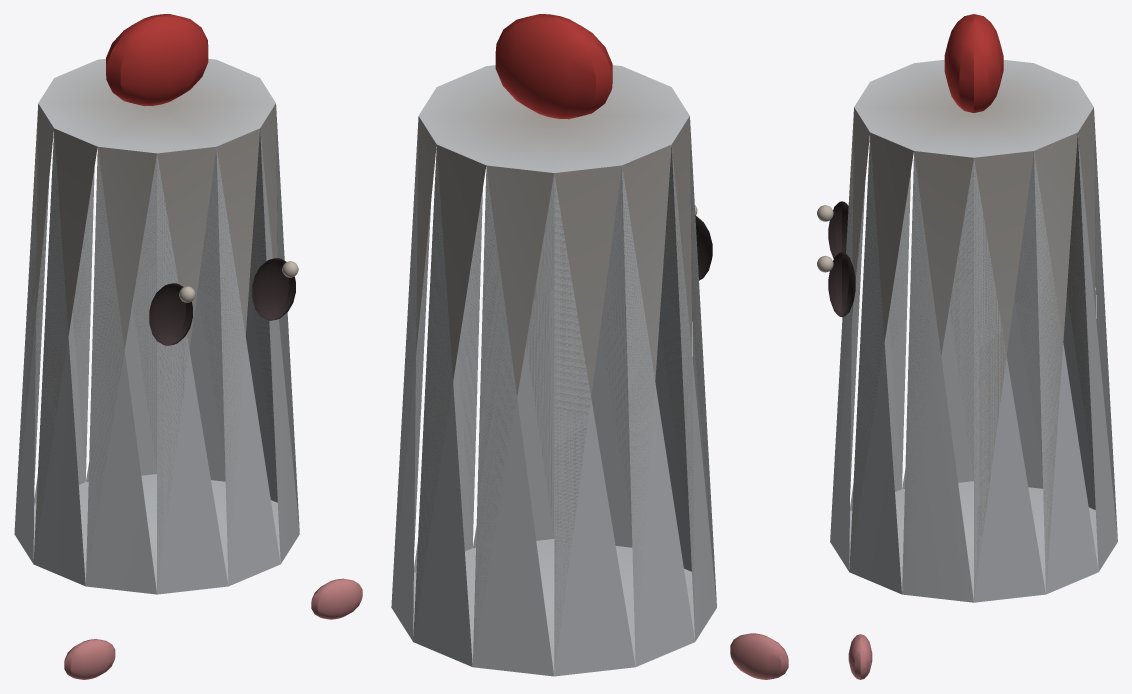
3 renders of one model, left to right at view 1: azimuth 30°, elevation 25°; view 2: azimuth 150°, elevation 25°; view 3: azimuth 270°, elevation 25°, orthographic. The views are drawn at different scales.
Visible parts, largest first — view 1: pet_pc37701f9; view 2: pet_pc37701f9; view 3: pet_pc37701f9.
Boxes of the visible parts, box(x1,y1,x2,y2) form: pet_pc37701f9: box(14, 14, 362, 679); pet_pc37701f9: box(391, 14, 788, 679); pet_pc37701f9: box(817, 14, 1117, 679).
Size of the model in its own units: 0.2896 by 0.5476 by 0.2509.
